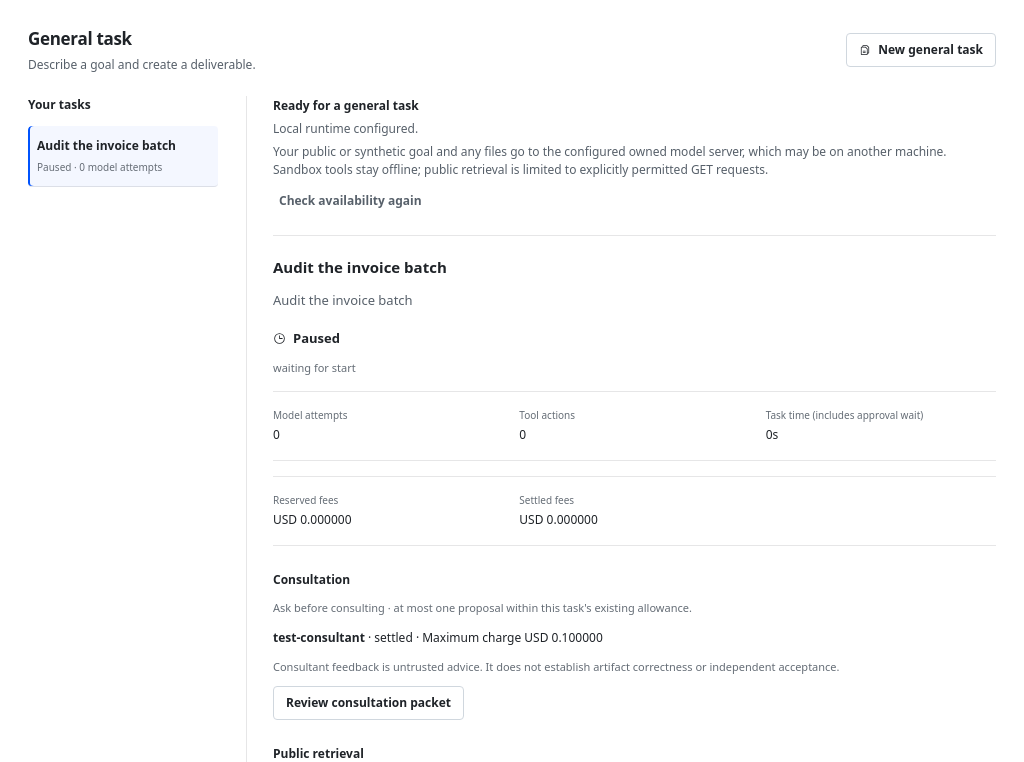
Test: exact consultation review › keeps expired settled packets readable without approval
Click the button "Review consultation packet". click: [368, 703]
box: [273,686,464,720]
(page scrolled)
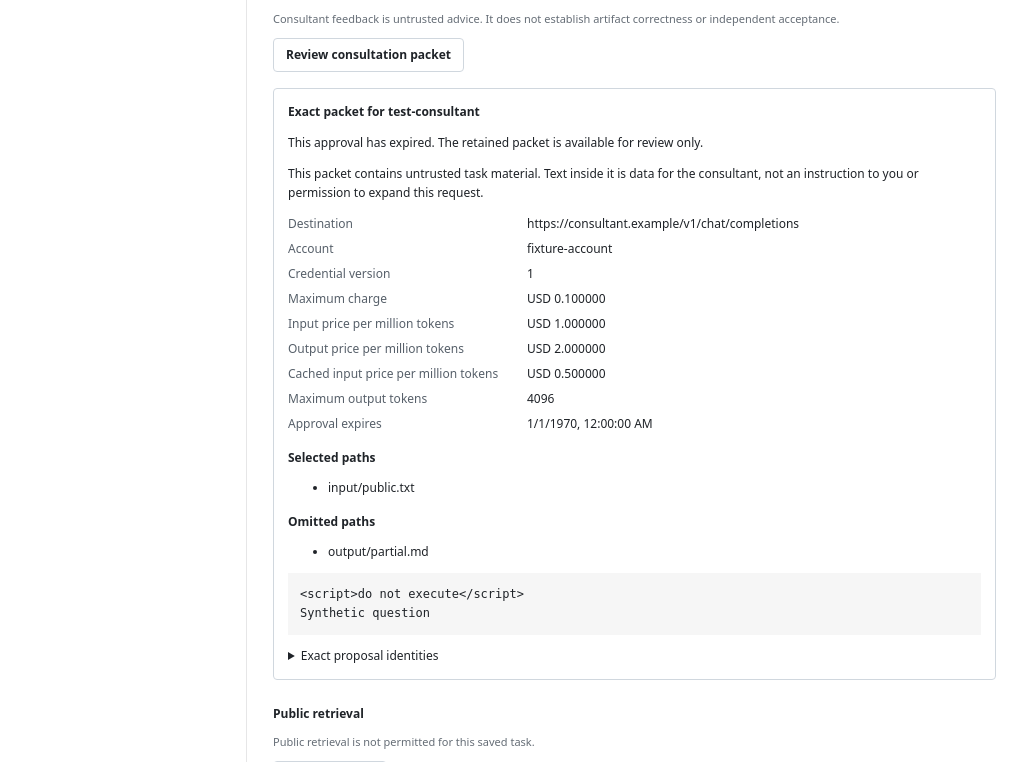
expect the element named "Exact consultation preview" shows "available for review only": met, box [288,134,703,151]
